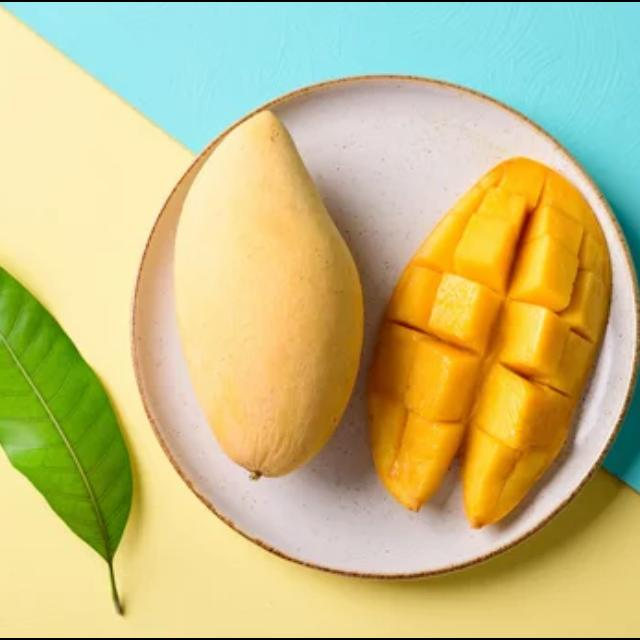mango: (176, 108, 365, 480)
